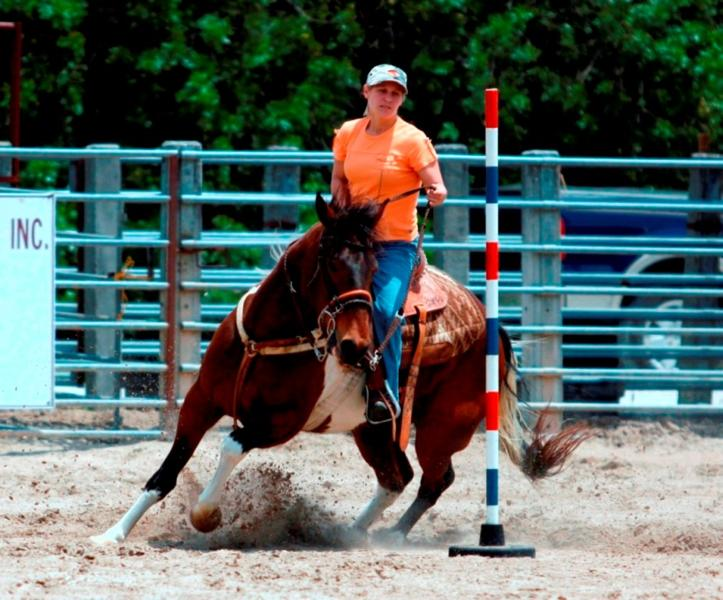person: (332, 62, 451, 426)
